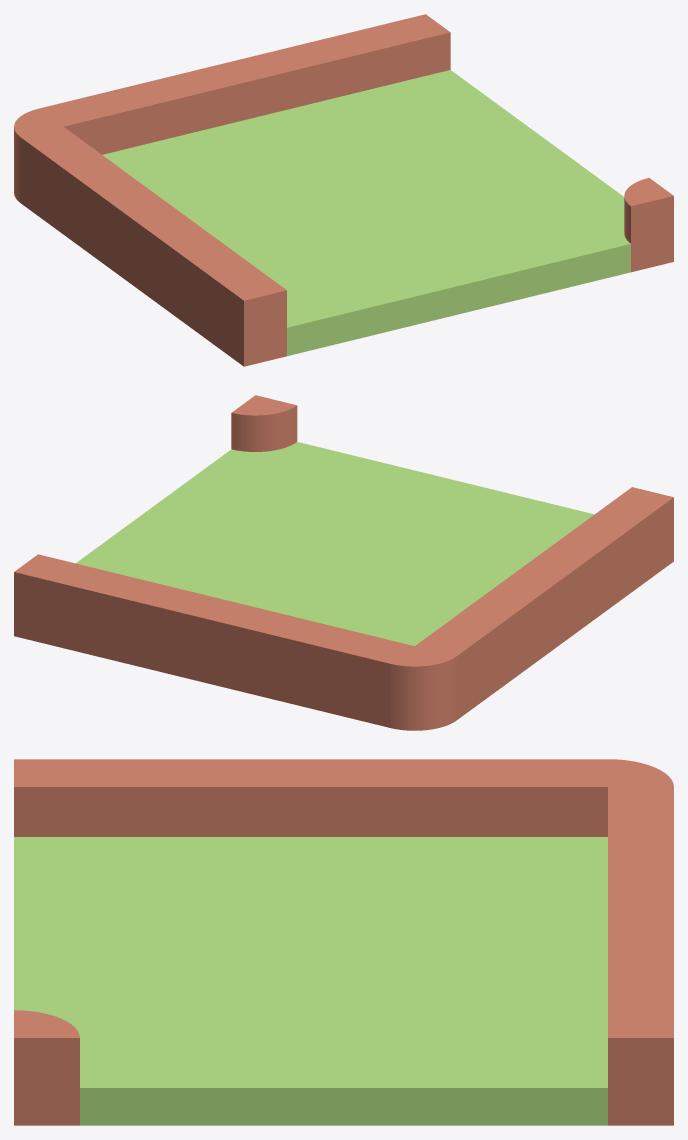
File: Square_corner_1_01.glb
3 views of the same model, one above another, from view 1: azimuth 30°, elevation 25°; view 2: azimuth 150°, elevation 25°; view 3: azimuth 270°, elevation 25° (orthographic). The views are drawn at different scales.
Visible parts, largest first — view 1: Mesh1 Square_corner_1 Model; view 2: Mesh1 Square_corner_1 Model; view 3: Mesh1 Square_corner_1 Model.
Part boxes in pixels (x1,y1,x2,y2): Mesh1 Square_corner_1 Model: (14, 14, 673, 366); Mesh1 Square_corner_1 Model: (14, 395, 673, 730); Mesh1 Square_corner_1 Model: (14, 759, 673, 1125).
Bounding box in the file's own units: 3 × 0.44 × 3.
